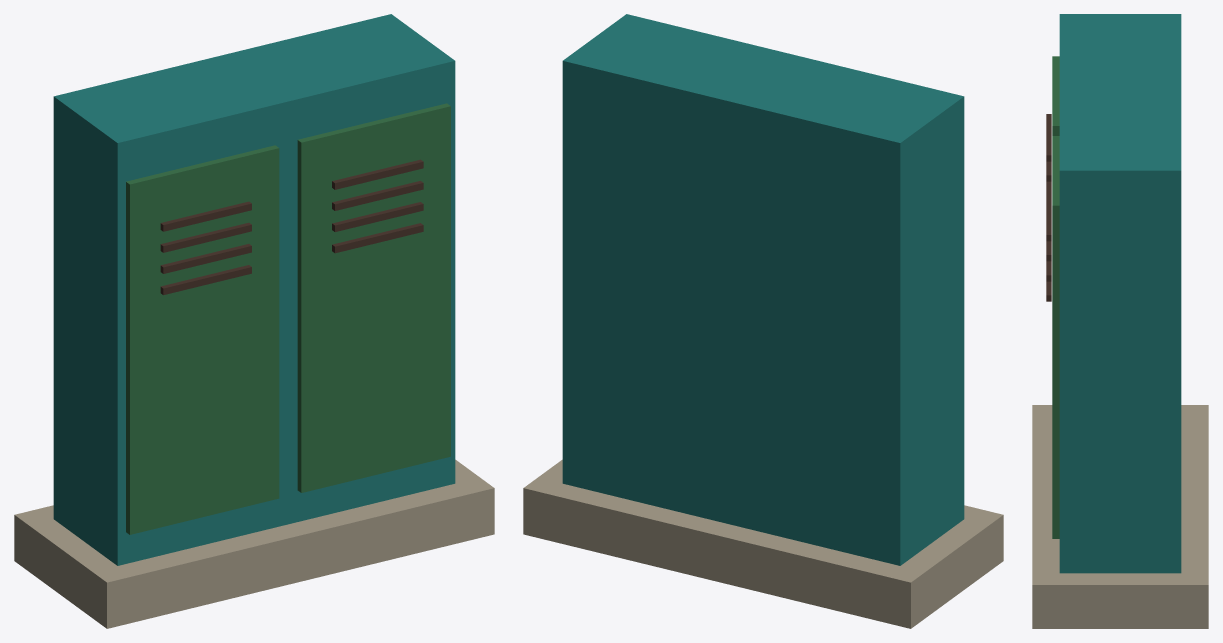
File: 046_utility_cabinet.glb
3 renders of one model, left to right at view 1: azimuth 30°, elevation 25°; view 2: azimuth 150°, elevation 25°; view 3: azimuth 270°, elevation 25°, orthographic. The views are drawn at different scales.
Visible parts, largest first — view 1: Utility cabinet; view 2: Utility cabinet; view 3: Utility cabinet.
Part boxes in pixels (bbox=[...]): Utility cabinet: bbox=[14, 14, 494, 628]; Utility cabinet: bbox=[523, 14, 1003, 628]; Utility cabinet: bbox=[1032, 14, 1208, 628].
Size of the model in its own units: 1.4 by 1.62 by 0.58.
